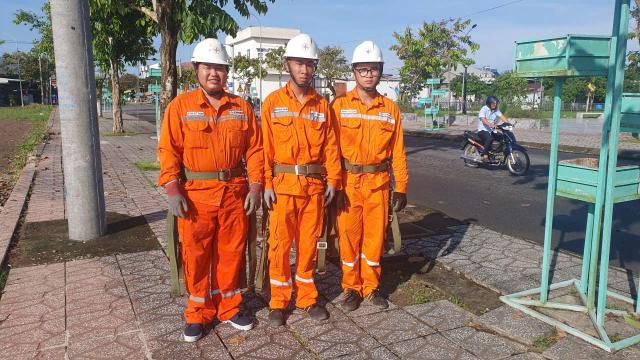gloves: (162, 179, 192, 222), (243, 179, 263, 217), (315, 184, 338, 216), (385, 188, 412, 214), (334, 185, 351, 216), (259, 185, 278, 212)
harness: (265, 156, 336, 185), (174, 164, 255, 188), (331, 152, 397, 178)
helmet: (184, 34, 238, 72), (341, 36, 392, 74), (282, 35, 323, 65)
shoes: (222, 310, 256, 334), (294, 298, 328, 322), (180, 314, 206, 345), (364, 282, 390, 312), (340, 280, 362, 310), (269, 302, 285, 328)
